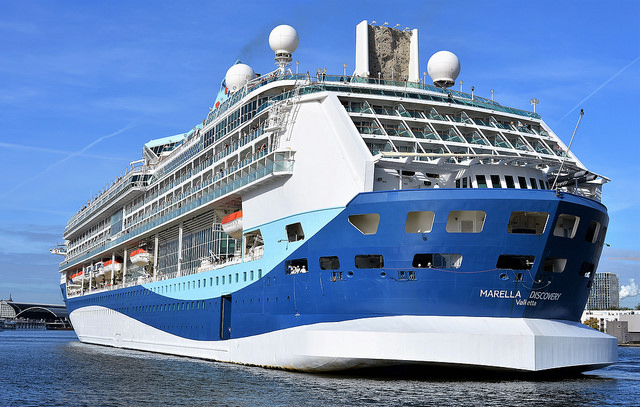cruise_ship: (57, 16, 616, 382)
